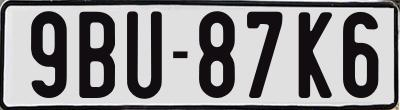6: (342, 11, 377, 99)
7: (244, 9, 279, 99)
8: (197, 11, 238, 101)
9: (28, 9, 65, 96)
B: (76, 9, 115, 95)
K: (299, 9, 337, 95)
U: (125, 9, 164, 98)
